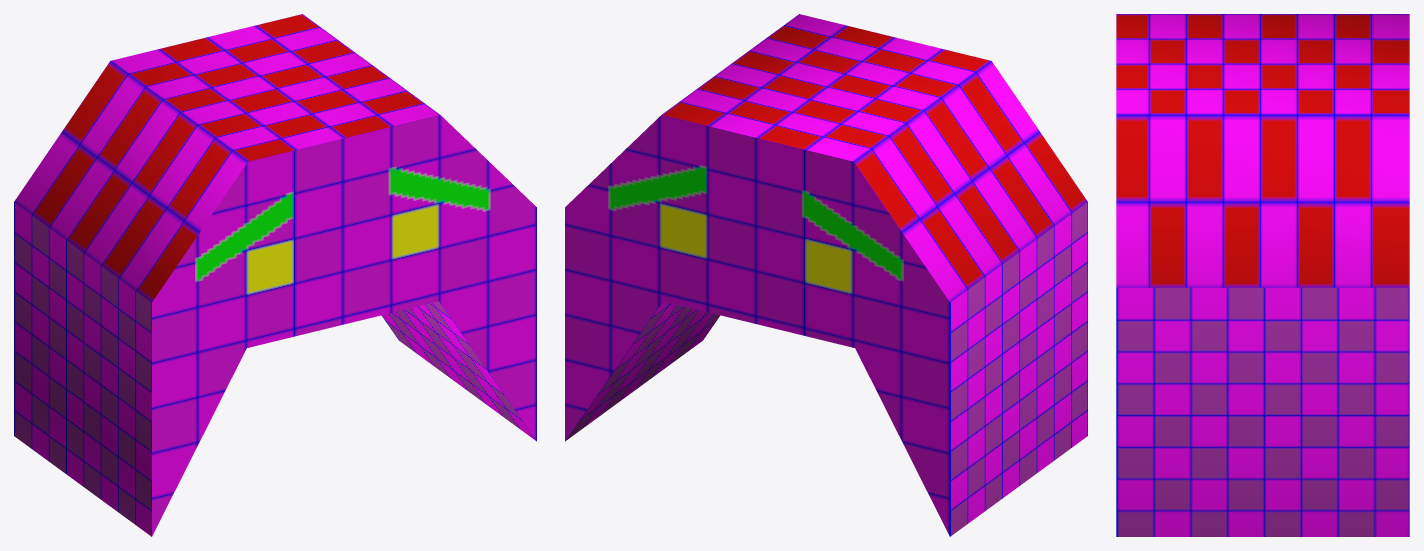
Rendered from anotheralien.obj.
3 views of the same model, side by side, from view 1: azimuth 30°, elevation 25°; view 2: azimuth 150°, elevation 25°; view 3: azimuth 270°, elevation 25° (orthographic). The views are drawn at different scales.
Parts seen in each view (by area): view 1: front, top, right; view 2: back, top, right; view 3: top, left.
Boxes of the visible parts, <box> form: front: <box>152,115,536,536</box>; top: <box>14,14,439,302</box>; right: <box>14,202,535,536</box>; back: <box>565,115,949,536</box>; top: <box>662,14,1087,302</box>; right: <box>566,202,1087,536</box>; top: <box>1116,14,1409,287</box>; left: <box>1116,287,1409,536</box>.
Size of the model in its own units: 35.09 by 30.64 by 21.76.
Materials: 1 (1 with a texture image).
